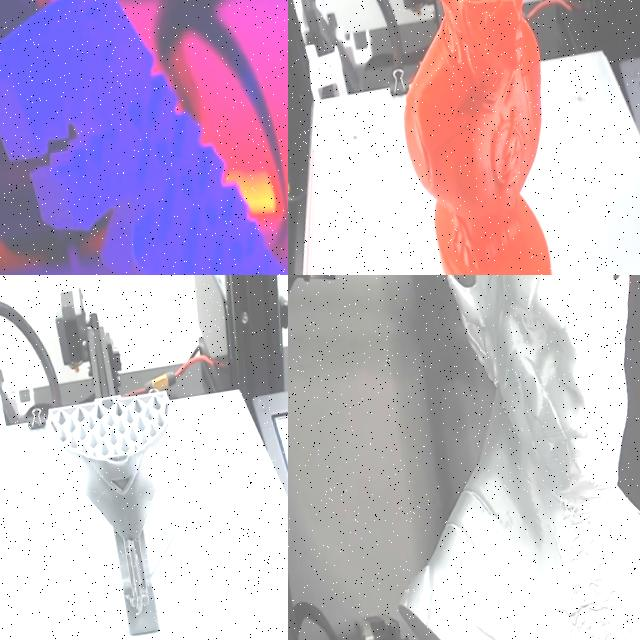spaghetti: (510, 474, 640, 640)
